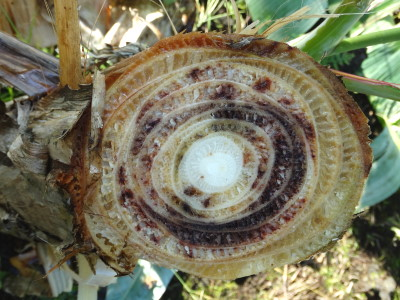Fusarium: (150, 210, 249, 257), (205, 87, 293, 134), (267, 140, 301, 203)
